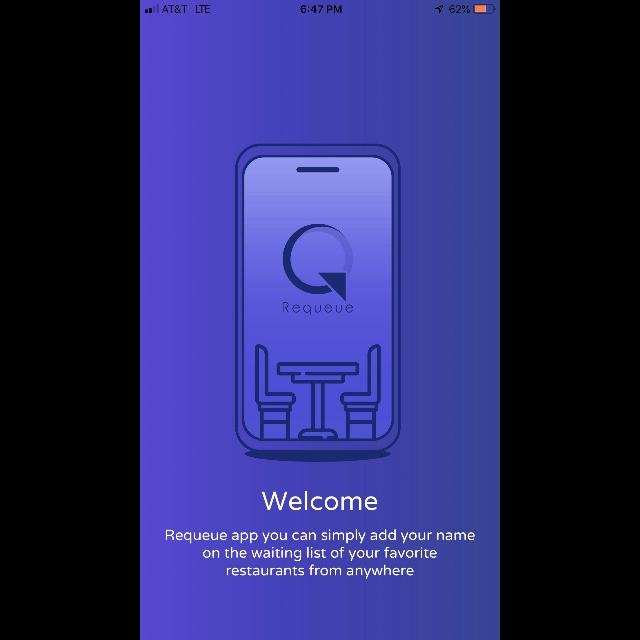image: (235, 144, 401, 462)
text: (166, 529, 474, 579), (262, 491, 378, 511)
uppertaskbar: (140, 0, 500, 14)
